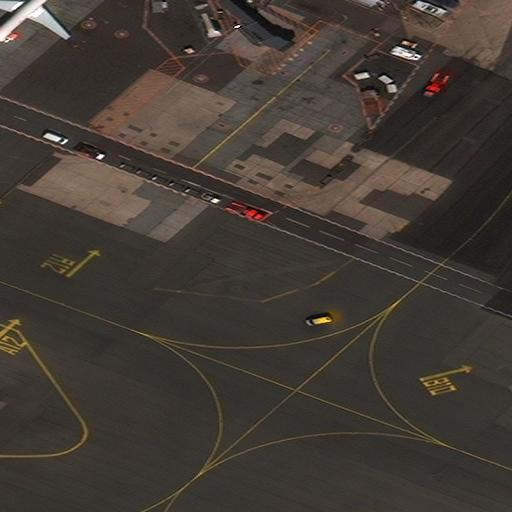Medium Civil Transport: (0, 0, 78, 52)
